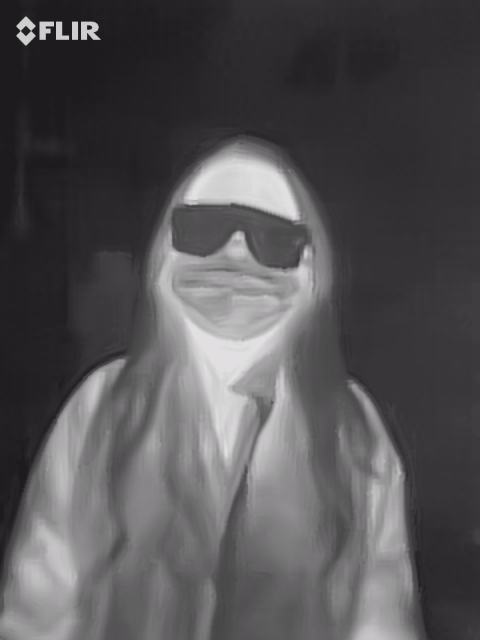head: (147, 136, 332, 345)
